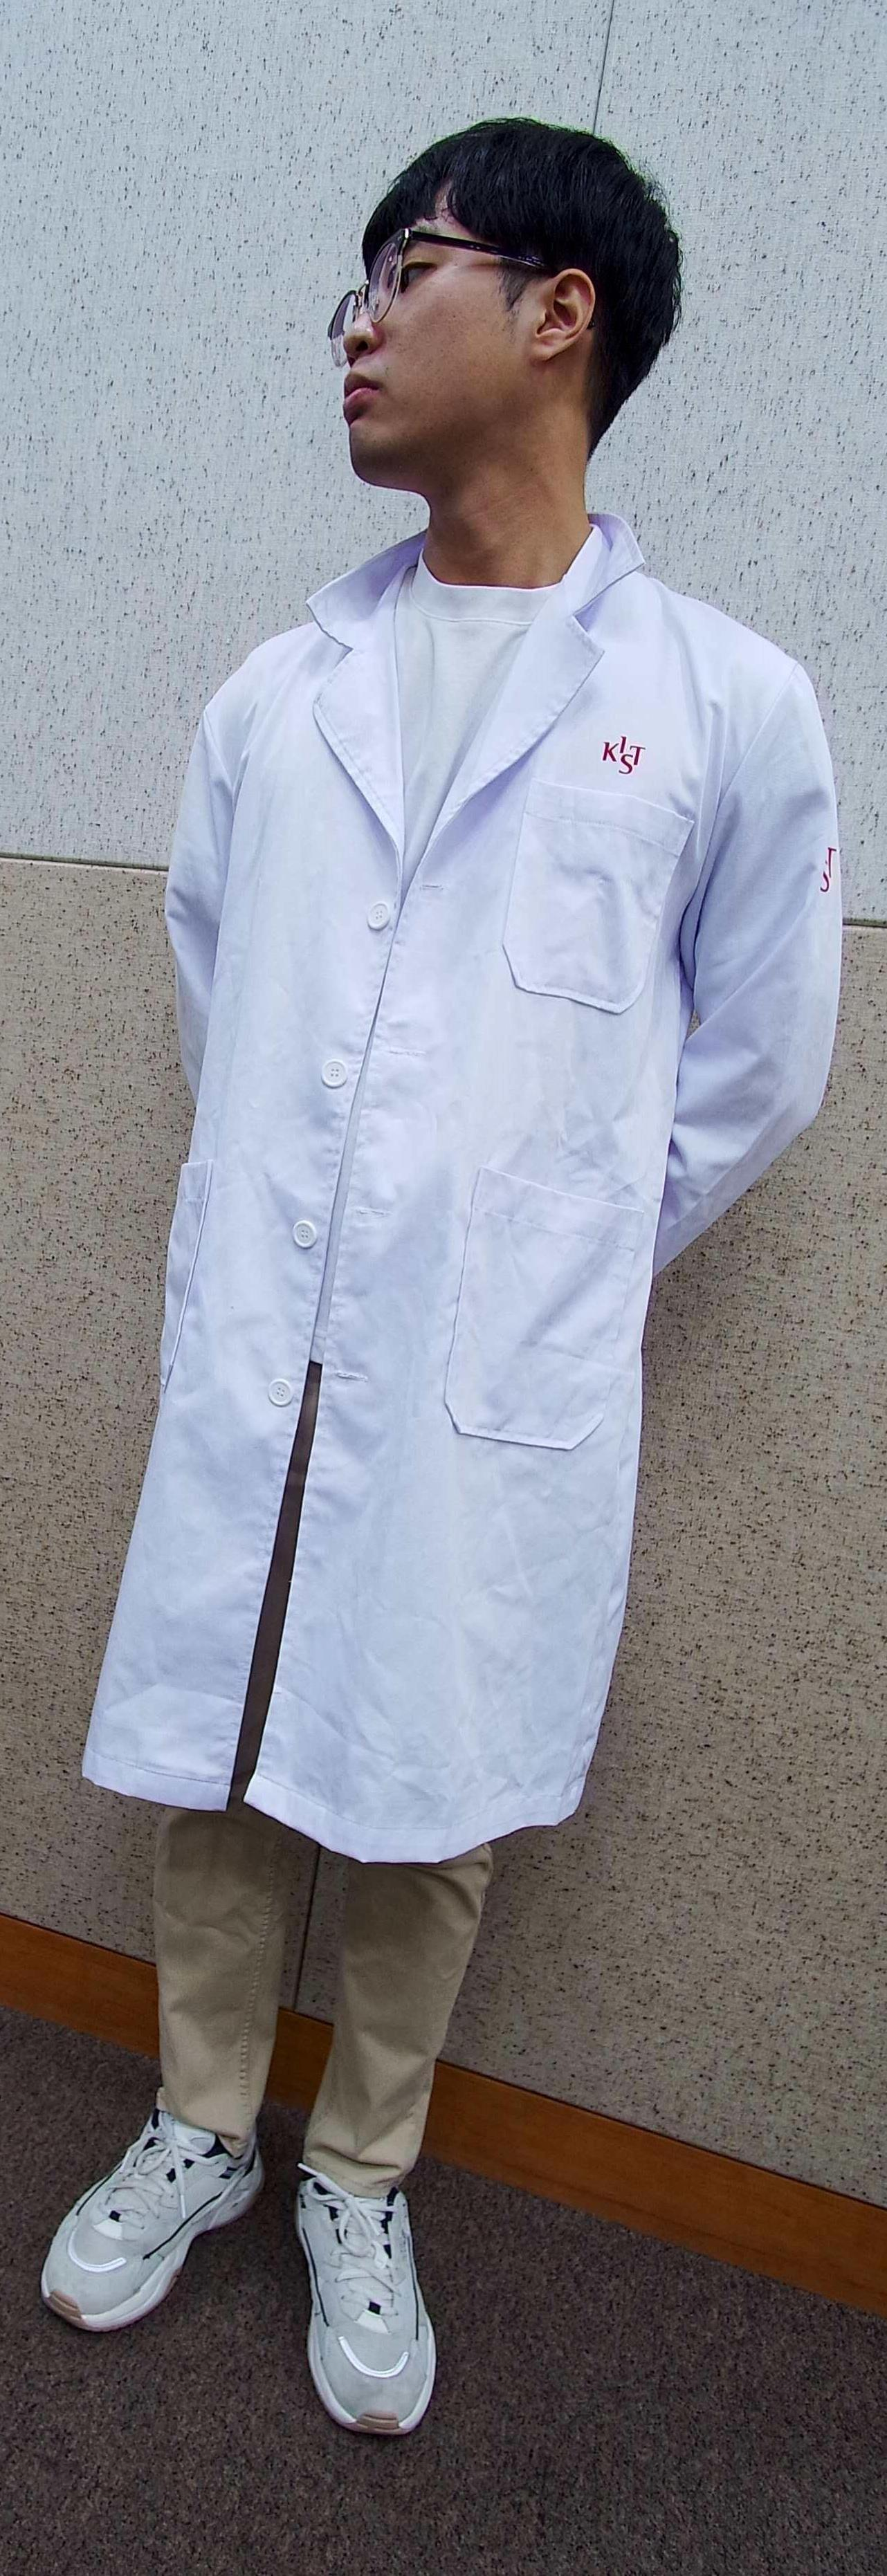lab_coat: (92, 596, 746, 1774)
